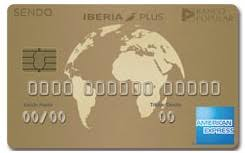tarjeta: (7, 4, 239, 149)
